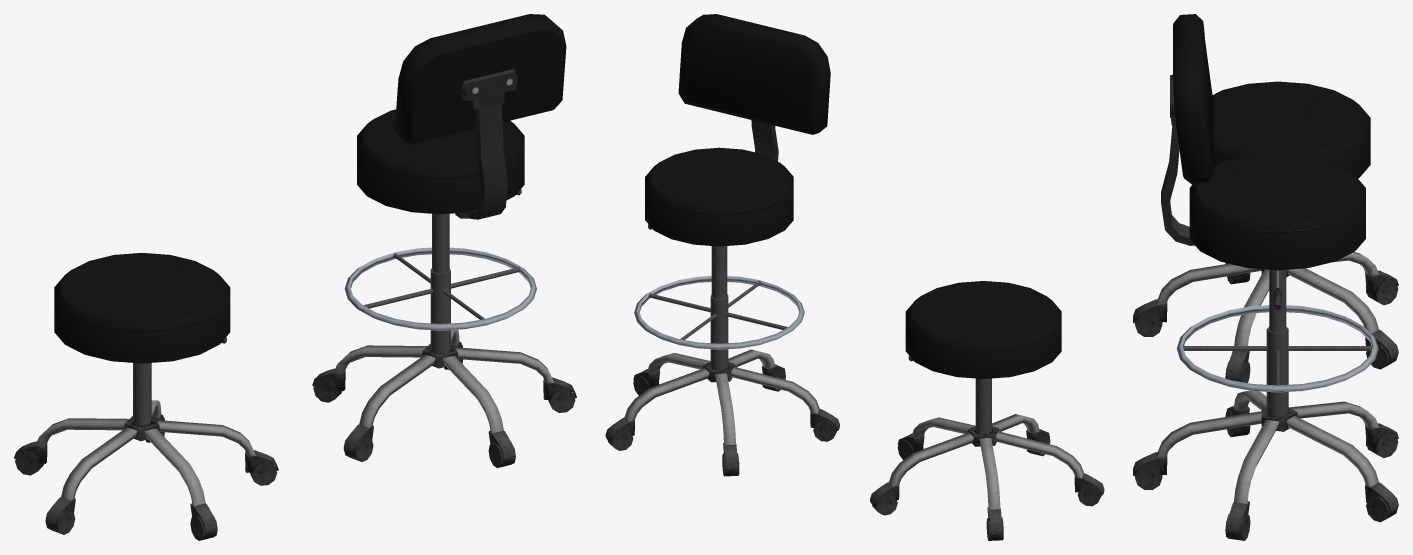
Rendered from stools.glb.
3 renders of one model, left to right at view 1: azimuth 30°, elevation 25°; view 2: azimuth 150°, elevation 25°; view 3: azimuth 270°, elevation 25°, orthographic. The views are drawn at different scales.
Visible parts, largest first — view 1: Object_2; view 2: Object_2; view 3: Object_2.
Boxes of the visible parts, box(x1,y1,x2,y2) form: Object_2: box(14, 14, 576, 540); Object_2: box(605, 14, 1104, 540); Object_2: box(1133, 14, 1398, 540).
Bounding box in the file's own units: 16.34 × 12.48 × 6.78.
1 material, 1 textured.
